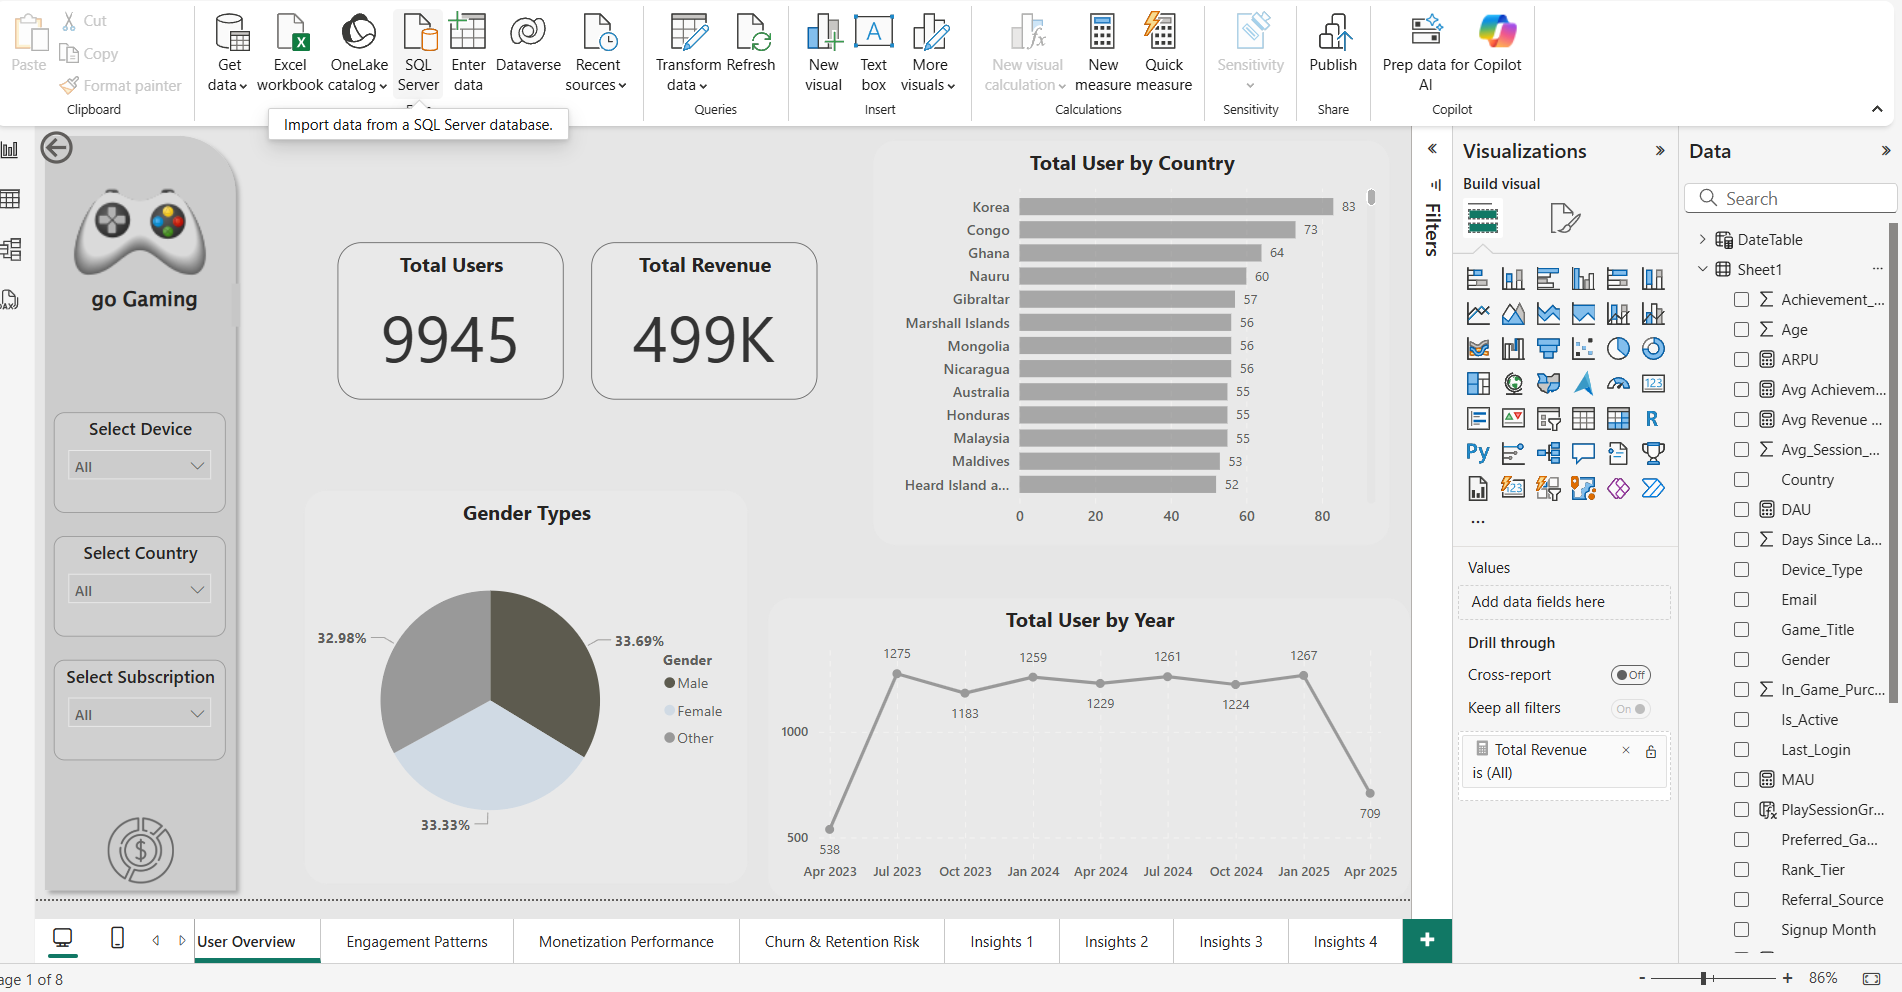

This screenshot's page, from the dashboard's own definition file:
{"tool":"powerbi","page":{"name":"User Overview","canvas":[1280,720],"ordinal":0},"visuals":[{"type":"barChart","title":"Total User by Country","fields":{"Category":["Sheet1.Country"],"Y":["Sheet1.User_Count"]},"box":[779.4,13.3,481.6,377.9],"z":0},{"type":"pieChart","title":"Gender Types","fields":{"Category":["Sheet1.Gender"],"Y":["CountNonNull(Sheet1.User_ID)"]},"box":[250.4,337.9,413.4,367.5],"z":1000},{"type":"lineChart","title":"Total User by Year","fields":{"Y":["Sheet1.User_Count"],"Category":["Sheet1.Signup_Date.Variation.Date Hierarchy.Year","Sheet1.Signup_Date.Variation.Date Hierarchy.Quarter"]},"box":[681.6,438.6,598.7,281.5],"z":2000},{"type":"shape","box":[0,0,195.6,720.2],"z":3000},{"type":"image","box":[62.2,628.3,71.1,91.9],"z":4000},{"type":"card","title":"Total Users","fields":{"Values":["Sheet1.User_Count"]},"box":[281.5,108.2,210.4,146.7],"z":5000},{"type":"image","box":[23.7,26.7,148.2,137.8],"z":6000},{"type":"textbox","box":[47.4,142.3,148.2,53.3],"z":7000},{"type":"card","title":"Total Revenue","fields":{"Values":["Sheet1.Total Revenue"]},"box":[517.2,108.2,210.4,146.7],"z":8000},{"type":"actionButton","box":[0,0,100,40],"z":9000},{"type":"slicer","title":"Select Device","fields":{"Values":["Sheet1.Device_Type"]},"box":[17.8,266.7,160,93.4],"z":10000},{"type":"slicer","title":"Select Country","fields":{"Values":["Sheet1.Country"]},"box":[17.8,380.8,160,93.4],"z":11000},{"type":"slicer","title":"Select Subscription","fields":{"Values":["Sheet1.Subscription_Tier"]},"box":[17.8,496.4,160,93.4],"z":12000}]}

Visuals, with their boxes on the page's 1280x720 design canvas (x1, y1, x2, y2). These are canvas units, not pixel positions in the 1902x992 screenshot, which may show the page scaled, cropped or inside an application window:
"Total User by Country" barChart: select_region(779, 13, 1261, 391)
"Gender Types" pieChart: select_region(250, 338, 664, 705)
"Total User by Year" lineChart: select_region(682, 439, 1280, 720)
shape: select_region(0, 0, 196, 720)
image: select_region(62, 628, 133, 720)
"Total Users" card: select_region(282, 108, 492, 255)
image: select_region(24, 27, 172, 164)
textbox: select_region(47, 142, 196, 196)
"Total Revenue" card: select_region(517, 108, 728, 255)
actionButton: select_region(0, 0, 100, 40)
"Select Device" slicer: select_region(18, 267, 178, 360)
"Select Country" slicer: select_region(18, 381, 178, 474)
"Select Subscription" slicer: select_region(18, 496, 178, 590)
